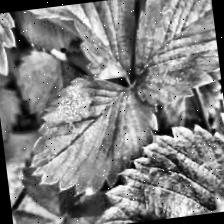Powdery Mildew Leaf: (19, 67, 166, 201)
